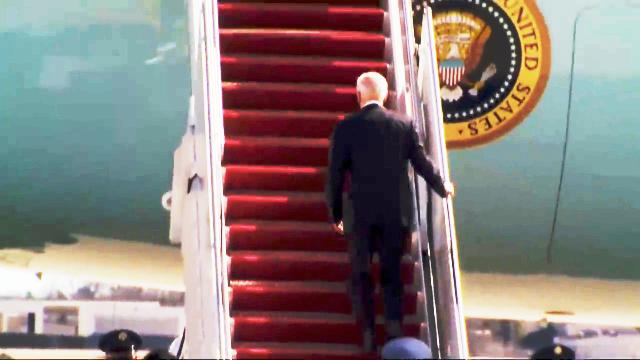berjalan: (322, 66, 454, 354)
